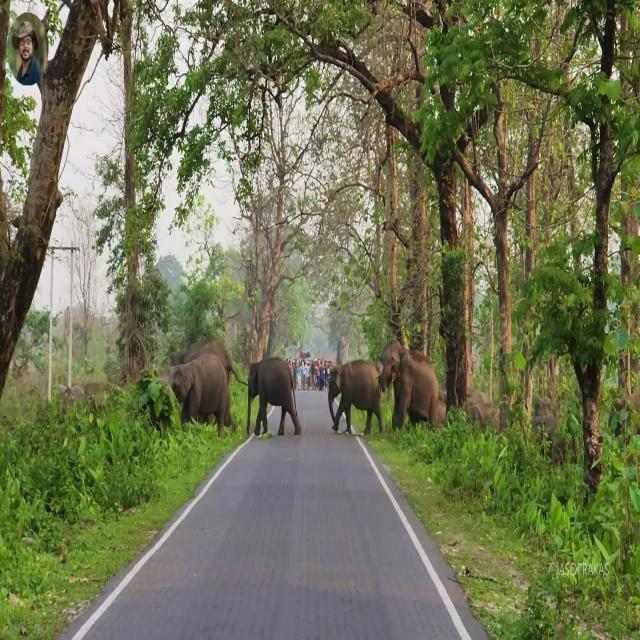Elephant: (155, 352, 237, 438), (328, 358, 386, 436), (246, 356, 302, 436)
